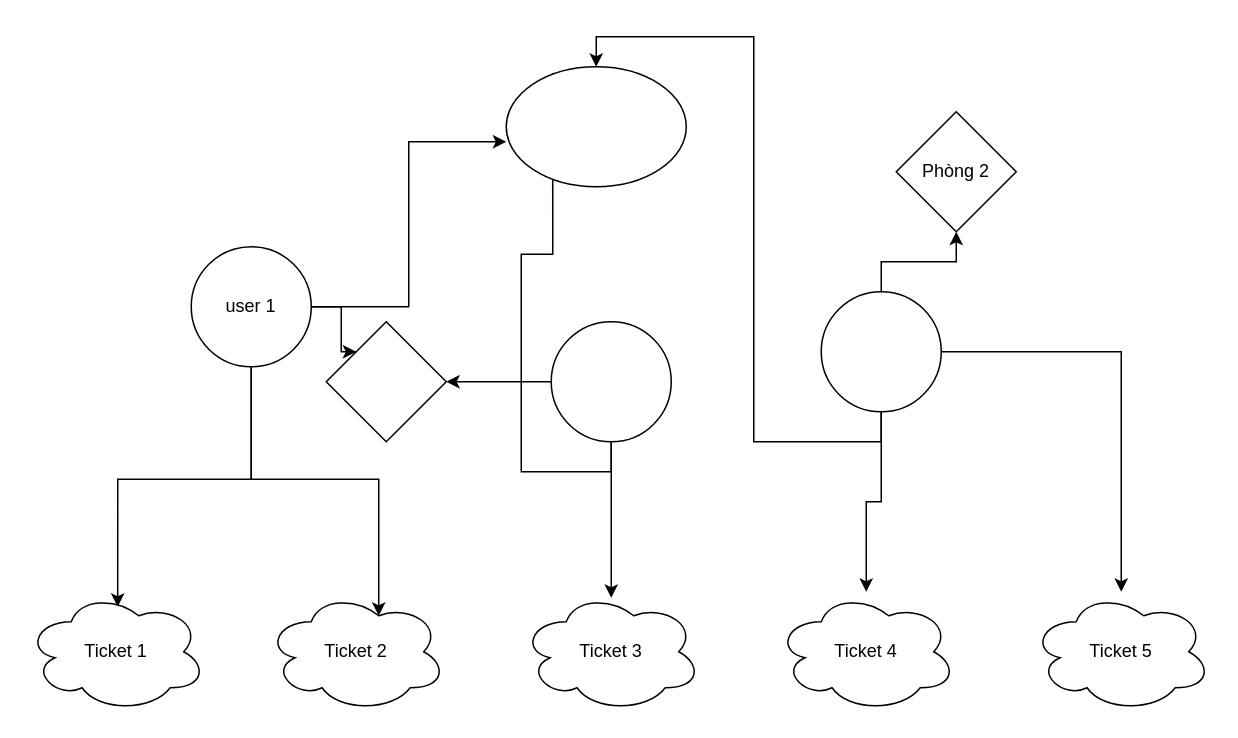
The diagram is 1238 pixels wide and 738 high, and some of its shapes have lost their labels. The box of each missing label's shape, as (x1, y1, x2, y2) in pixels:
Nhóm 1: (505, 65, 686, 187)
Phòng 1: (325, 320, 446, 442)
User 2: (550, 320, 671, 442)
User 3: (820, 290, 941, 412)
